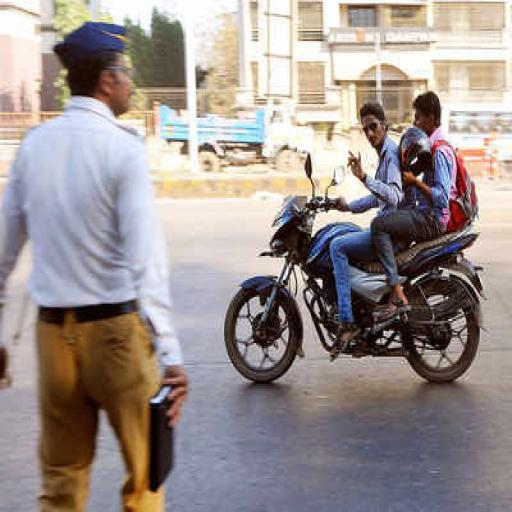no helmet: (252, 84, 396, 396)
